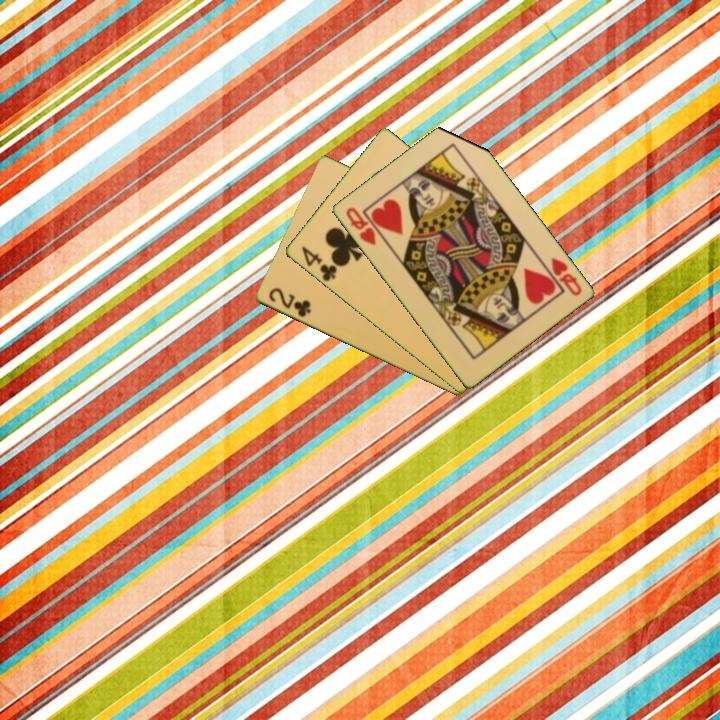2c: (265, 284, 314, 320)
4c: (297, 242, 340, 285)
Qh: (547, 254, 584, 299), (342, 204, 379, 248)
